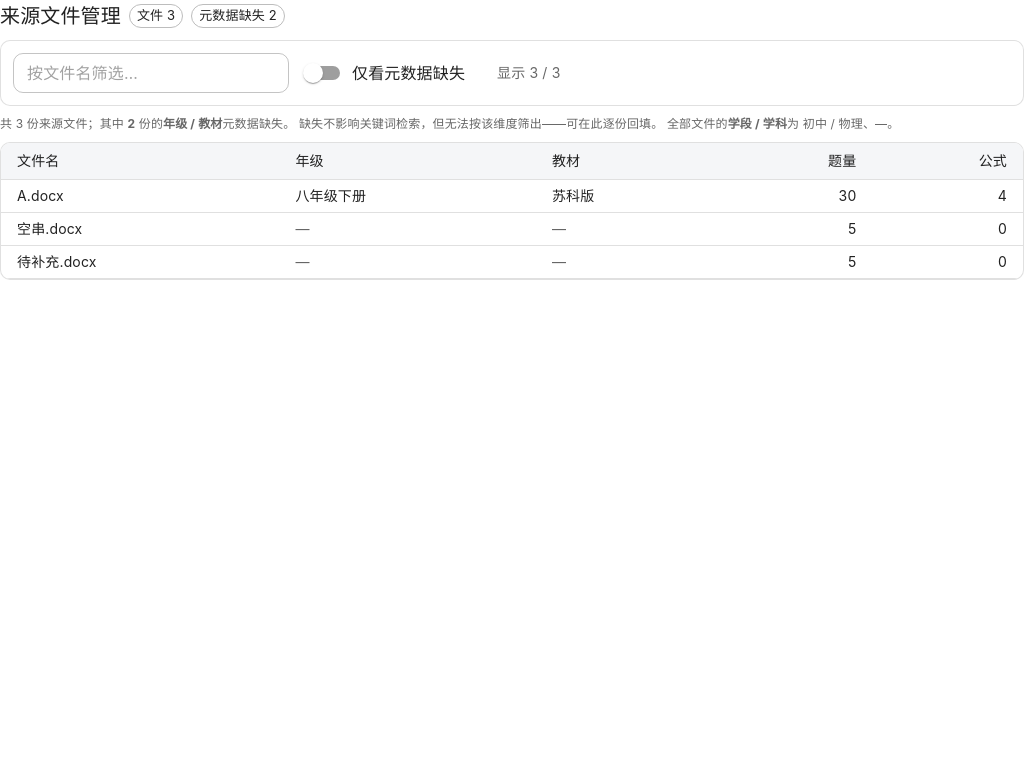
Test: B4-3 来源文件 › 详情默认不显示绝对路径，「文件位置」展开后可读
Click the text "A.docx" at point(140, 196), box x1=1 y1=180 x2=279 y2=213
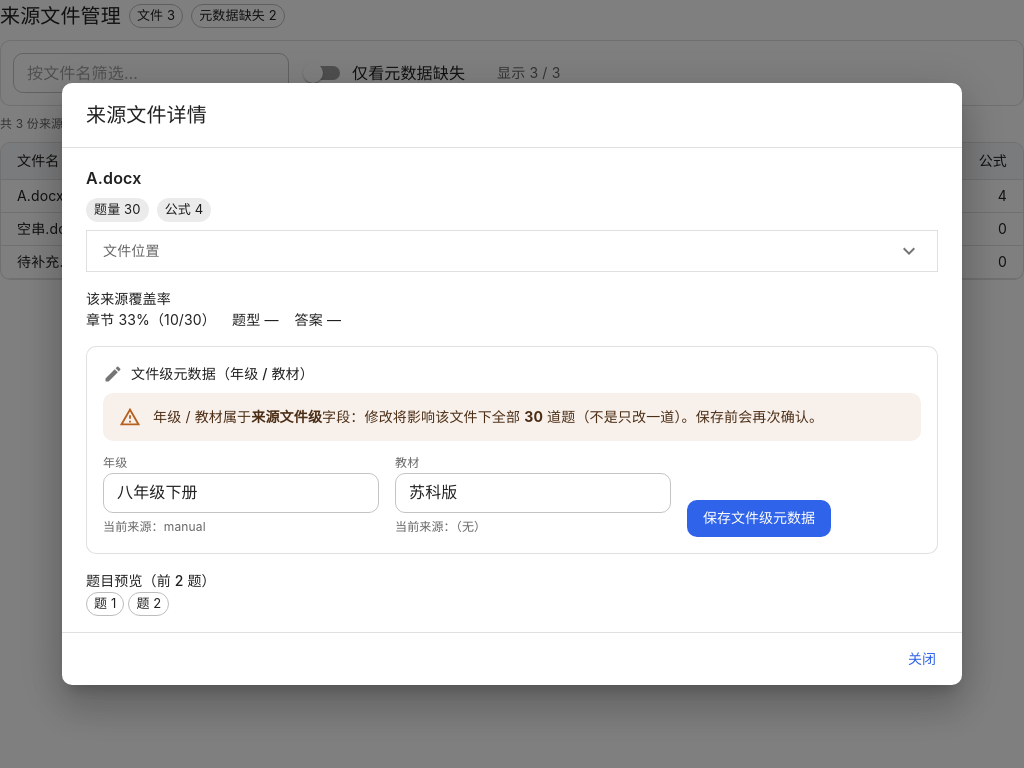
Check: the text "题量 30" is shown, box x1=94 y1=201 x2=141 y2=217
Click the button "文件位置" at point(131, 250), box x1=87 y1=231 x2=937 y2=271
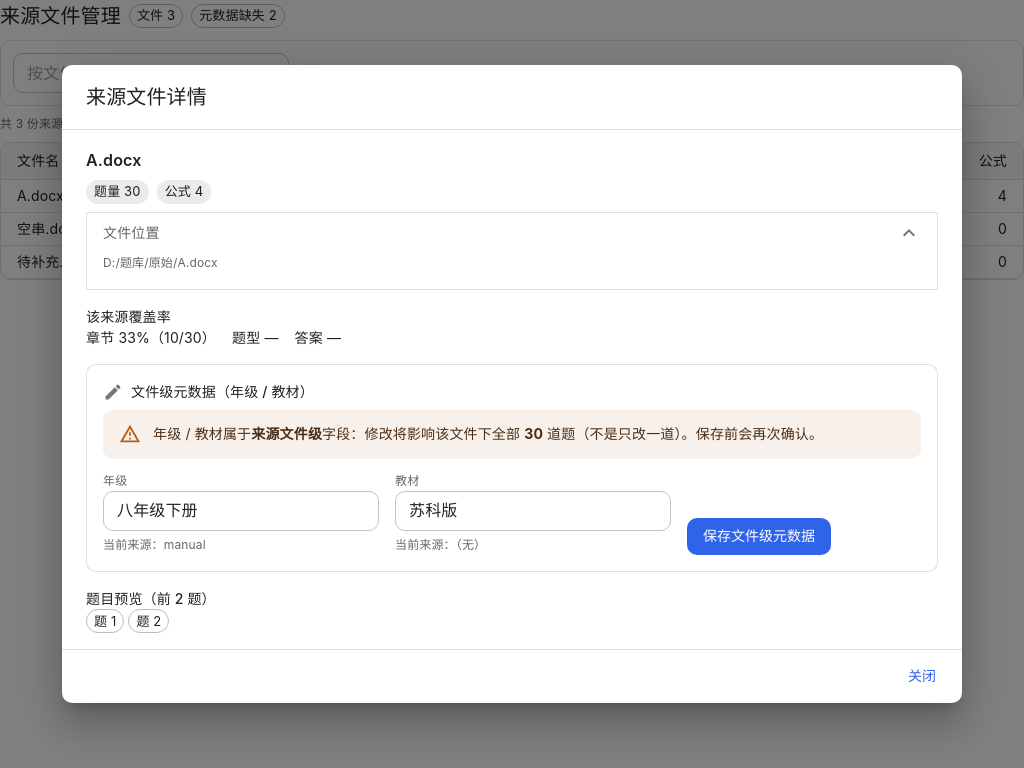
Check: the button "文件位置" is expanded, box x1=87 y1=213 x2=937 y2=253
Check: the text "D:/题库/原始/A.docx" is shown, box x1=103 y1=255 x2=218 y2=270
